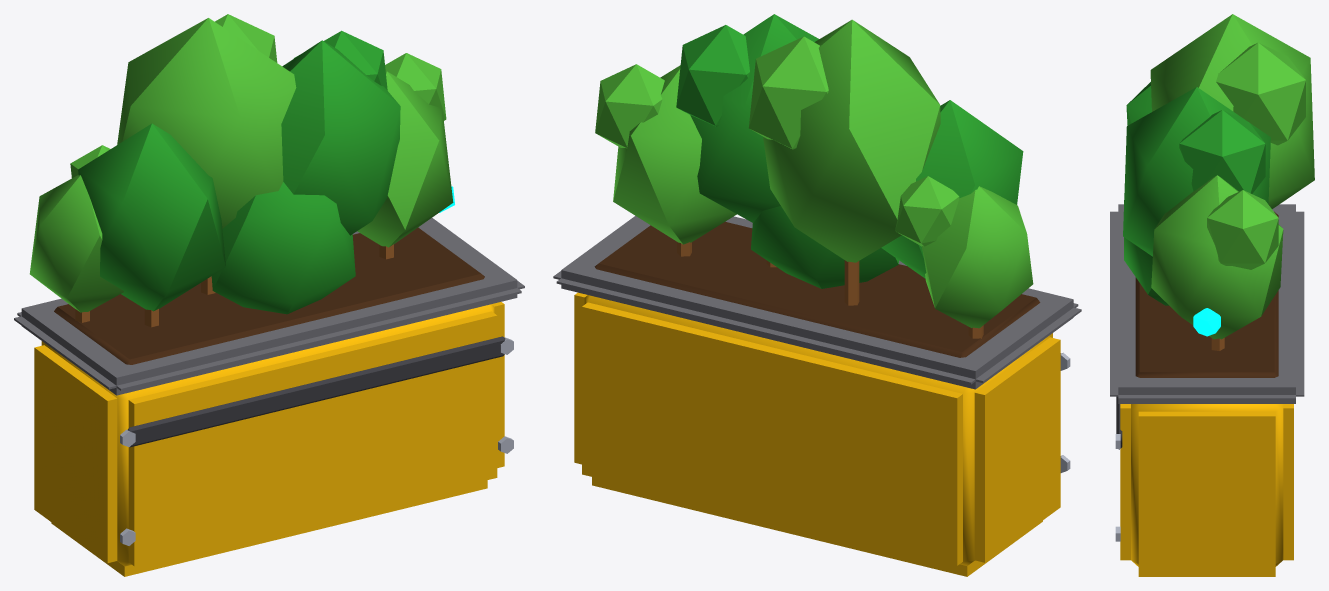
File: plant_box_yellow.fbx
3 views of the same model, side by side, from view 1: azimuth 30°, elevation 25°; view 2: azimuth 150°, elevation 25°; view 3: azimuth 270°, elevation 25° (orthographic). The views are drawn at different scales.
Parts seen in each view (by area): view 1: plant_box_yellow; view 2: plant_box_yellow; view 3: plant_box_yellow.
Part boxes in pixels (<box>): plant_box_yellow: <box>14,14,524,576</box>; plant_box_yellow: <box>553,14,1081,576</box>; plant_box_yellow: <box>1110,14,1314,576</box>.
Bounding box in the file's own units: 4.49 × 4.95 × 2.
